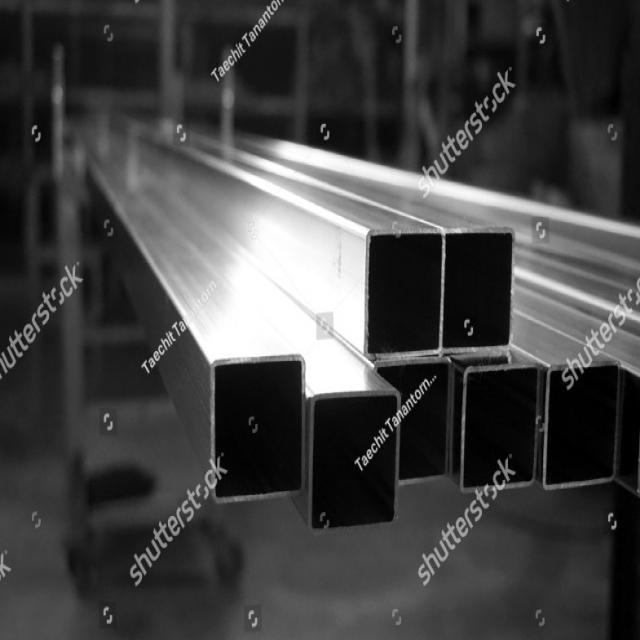pipe: (215, 360, 304, 498), (308, 396, 398, 532), (465, 364, 543, 493), (365, 234, 442, 356), (380, 359, 452, 481), (449, 224, 517, 349), (548, 360, 615, 485)
